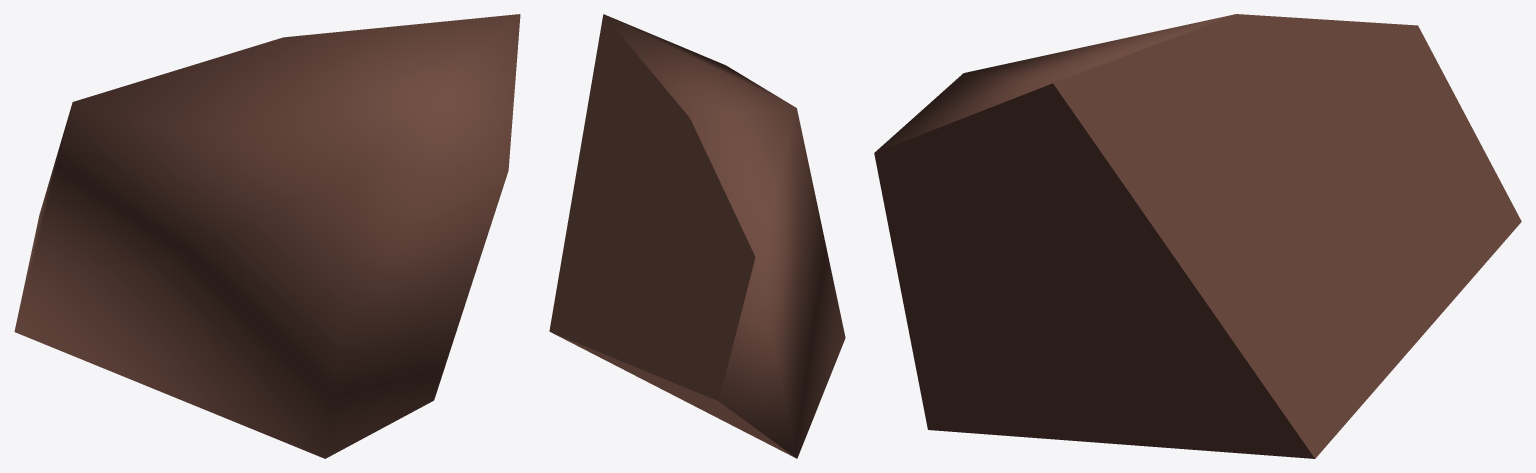
Rendered from p_mesh_hvs_rock_medium01_destruction_part03_col.fbx.
3 renders of one model, left to right at view 1: azimuth 30°, elevation 25°; view 2: azimuth 150°, elevation 25°; view 3: azimuth 270°, elevation 25°, orthographic. The views are drawn at different scales.
Visible parts, largest first — view 1: p_medium_destruction_part03_col; view 2: p_medium_destruction_part03_col; view 3: p_medium_destruction_part03_col.
Part boxes in pixels (x1=…): p_medium_destruction_part03_col: x1=14, y1=14, x2=520, y2=458; p_medium_destruction_part03_col: x1=549, y1=14, x2=845, y2=458; p_medium_destruction_part03_col: x1=874, y1=14, x2=1521, y2=458.
Bounding box in the file's own units: 4.91 × 4.53 × 5.54.
